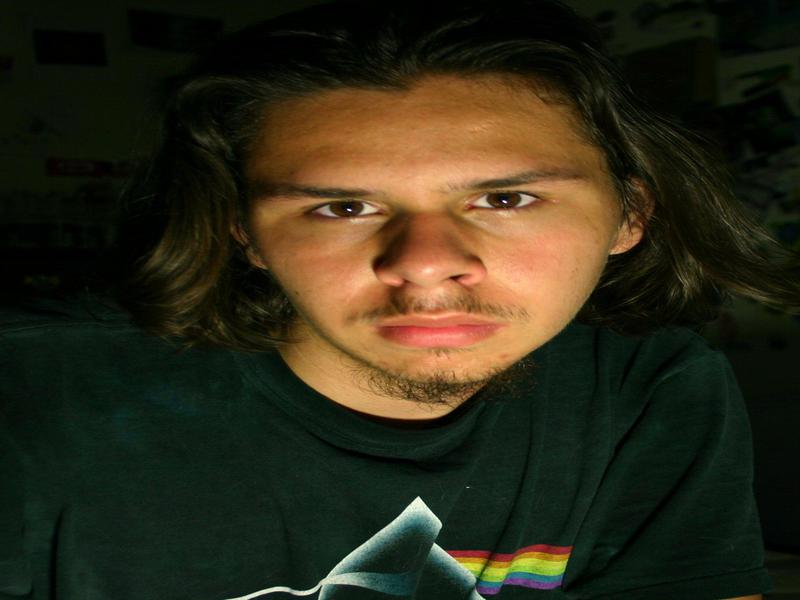person: (17, 22, 769, 600)
